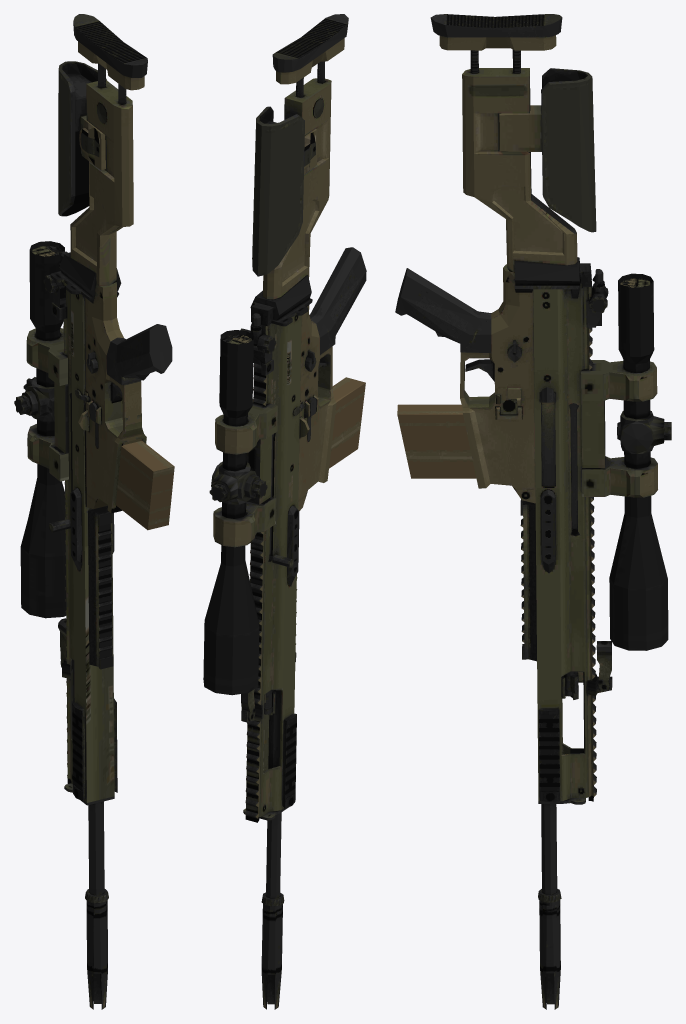
The model's file is w_snip_scar20.obj.
3 renders of one model, left to right at view 1: azimuth 30°, elevation 25°; view 2: azimuth 150°, elevation 25°; view 3: azimuth 270°, elevation 25°, orthographic. The views are drawn at different scales.
Bounding box in the file's own units: 0.0268 × 0.4427 × 0.1128.
1 material, 1 textured.
